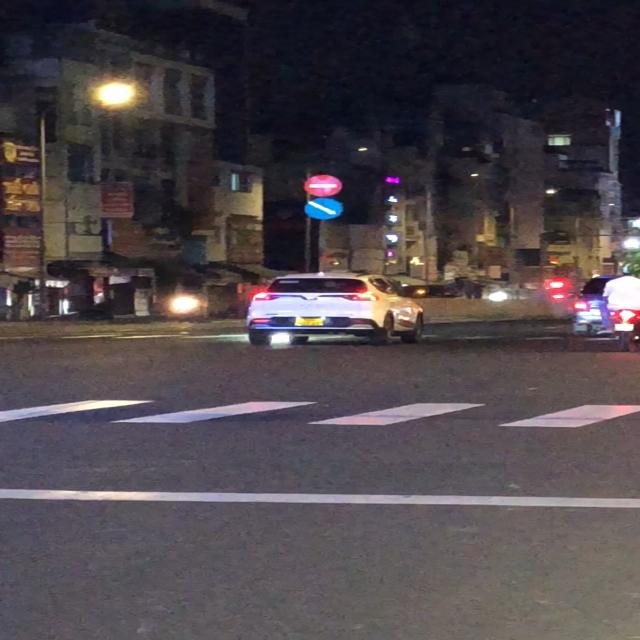Bien bao cam di nguoc chieu: (302, 173, 344, 196)
Bien bao huong phai di vong chuong ngai vat: (303, 198, 346, 220)
